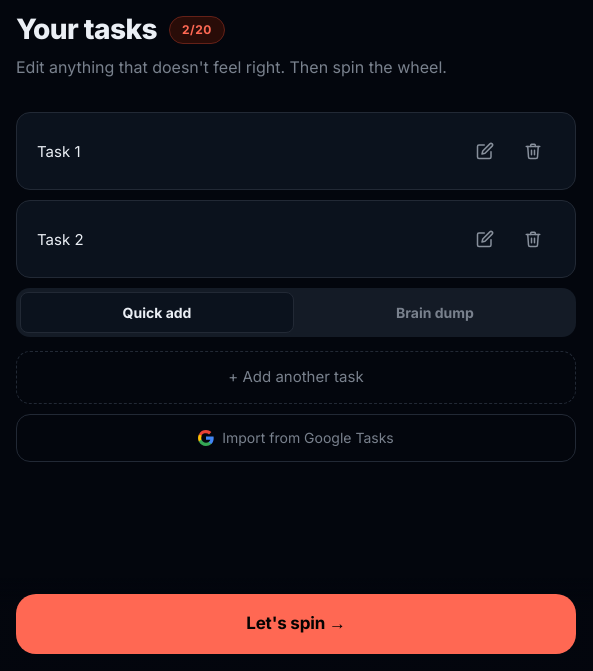
it: ListEditScreen › switching to Brain dump reveals the append explainer that says nothing is replaced
The image size is (593, 671).
What coordinates should you click on to do the following:
click the tab with test id "edit-mode-dump"
I would click on:
 (435, 313)
Its box is [298,292,572,333].
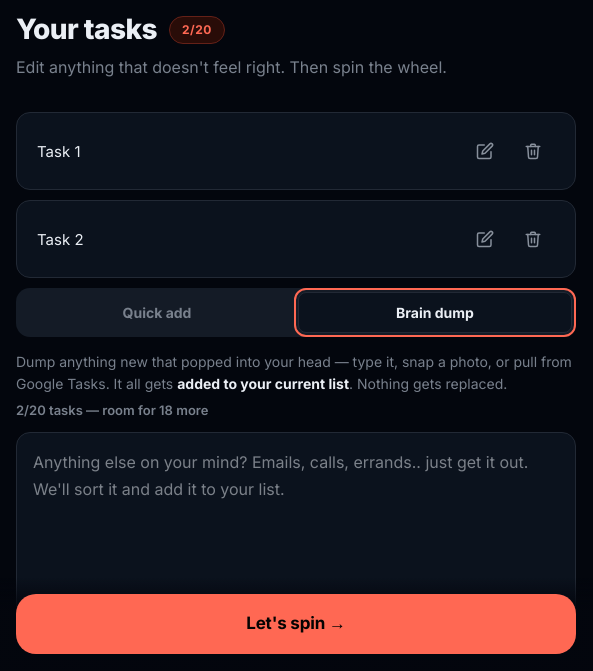
Result: the element with test id "brain-dump-explainer" shows "added to your current list" at [177,375,349,392]
Result: the element with test id "brain-dump-explainer" shows "nothing gets replaced" at [349,375,507,392]
